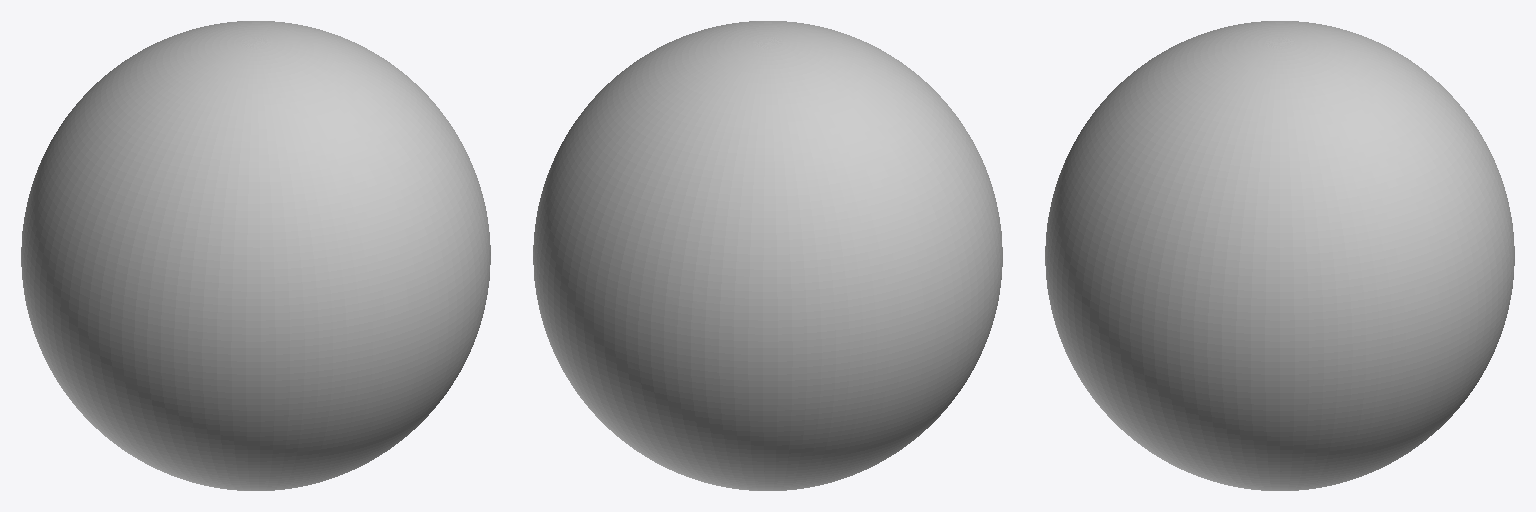
The model's file is mercury.obj.
3 views of the same model, side by side, from view 1: azimuth 30°, elevation 25°; view 2: azimuth 150°, elevation 25°; view 3: azimuth 270°, elevation 25° (orthographic).
Visible parts, largest first — view 1: Mercury_Sphere.009; view 2: Mercury_Sphere.009; view 3: Mercury_Sphere.009.
Part boxes in pixels (left/top/right/bottom): Mercury_Sphere.009: left=21, top=21, right=490, bottom=490; Mercury_Sphere.009: left=533, top=21, right=1002, bottom=490; Mercury_Sphere.009: left=1045, top=21, right=1514, bottom=490.
Bounding box in the file's own units: 1.99 × 2 × 1.99.